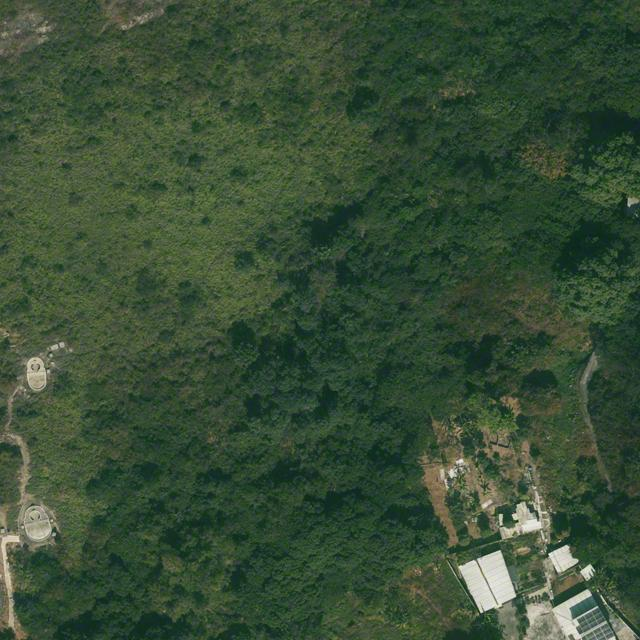panel: (577, 607, 607, 633), (600, 624, 615, 639), (576, 625, 585, 635)
